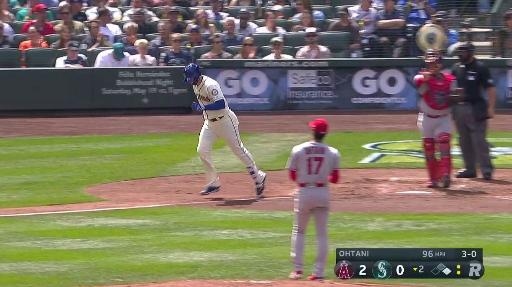pitcher: (284, 119, 342, 282)
